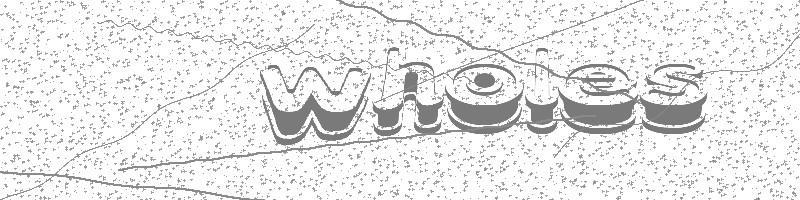e: (557, 59, 639, 137)
h: (369, 44, 447, 142)
l: (524, 45, 561, 135)
o: (443, 59, 527, 137)
s: (638, 60, 711, 137)
w: (256, 61, 371, 145)
